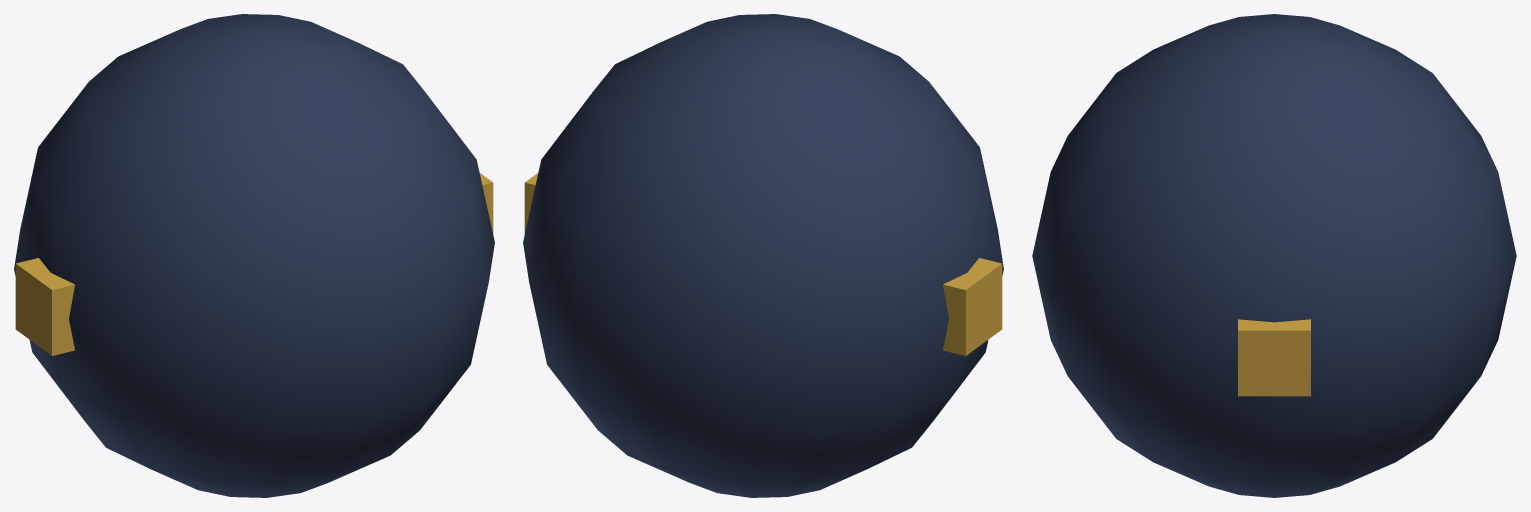
File: ball.glb
3 renders of one model, left to right at view 1: azimuth 30°, elevation 25°; view 2: azimuth 150°, elevation 25°; view 3: azimuth 270°, elevation 25°, orthographic.
Visible parts, largest first — view 1: ball; view 2: ball; view 3: ball.
Boxes of the visible parts, x1,y1,x2,y2 form: ball: (14, 14, 494, 497); ball: (523, 14, 1003, 497); ball: (1032, 14, 1516, 497).
Bounding box in the file's own units: 0.525 × 0.5 × 0.5.
